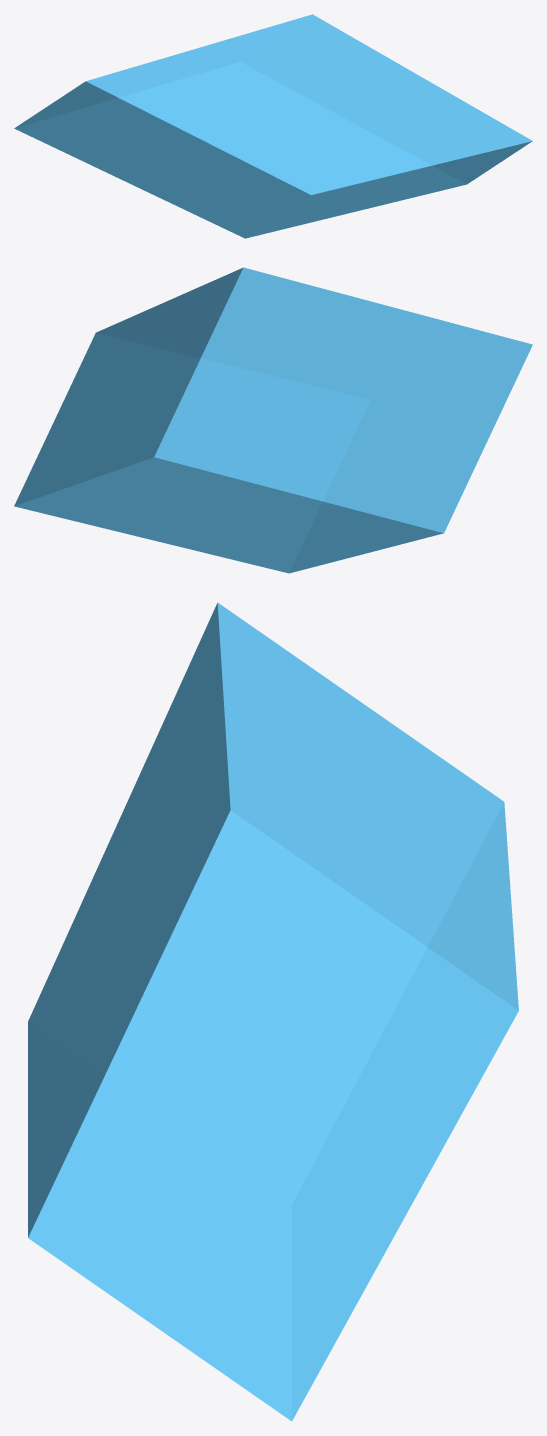
Rendered from Event_421364160_HBrechit_19.fbx.
3 renders of one model, top to bottom at view 1: azimuth 30°, elevation 25°; view 2: azimuth 150°, elevation 25°; view 3: azimuth 270°, elevation 25°, orthographic. The views are drawn at different scales.
Visible parts, largest first — view 1: Model; view 2: Model; view 3: Model.
Boxes of the visible parts, left/top/right/bottom form: Model: left=14, top=14, right=532, bottom=238; Model: left=14, top=267, right=532, bottom=573; Model: left=28, top=602, right=518, bottom=1421.
Bounding box in the file's own units: 1.12 × 0.5938 × 0.5928.
